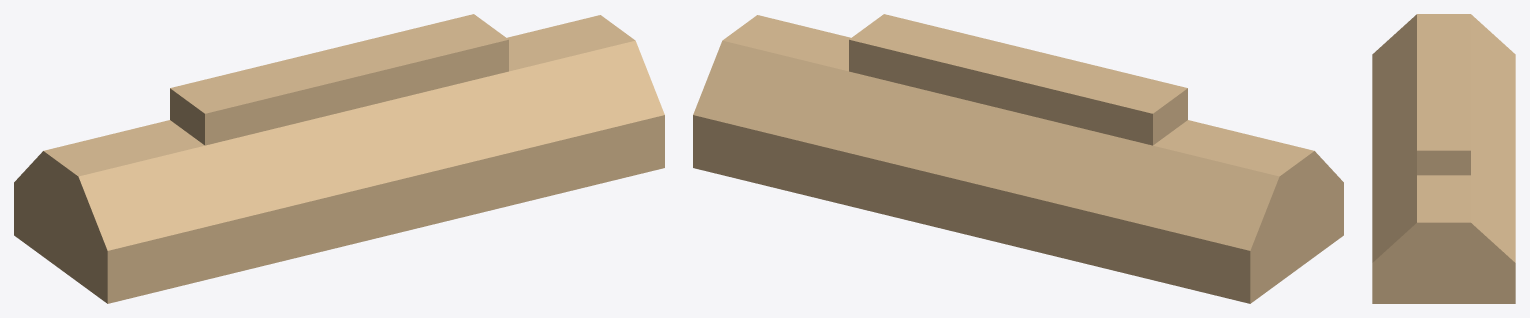
The model's file is prop-spokeshave-sole-blank-sv2.fbx.
The picture shows the model from 3 angles, left to right: view 1: azimuth 30°, elevation 25°; view 2: azimuth 150°, elevation 25°; view 3: azimuth 270°, elevation 25°; orthographic projection. The views are drawn at different scales.
Visible parts, largest first — view 1: prop-spokeshave-sole-blank-sv2; view 2: prop-spokeshave-sole-blank-sv2; view 3: prop-spokeshave-sole-blank-sv2.
Boxes of the visible parts, x1,y1,x2,y2 form: prop-spokeshave-sole-blank-sv2: (14,14,664,303); prop-spokeshave-sole-blank-sv2: (693,14,1343,303); prop-spokeshave-sole-blank-sv2: (1372,14,1515,303).
Bounding box in the file's own units: 11 × 2.6 × 3.2.
